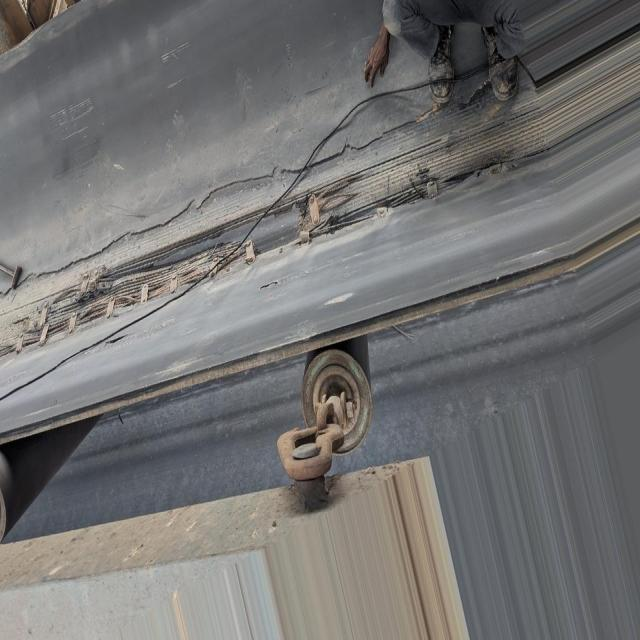Human: (359, 0, 529, 100)
Other Objects: (1, 260, 32, 293)
Roller: (0, 415, 104, 535), (301, 338, 372, 452)
Tear: (0, 108, 474, 355), (1, 143, 481, 360)
